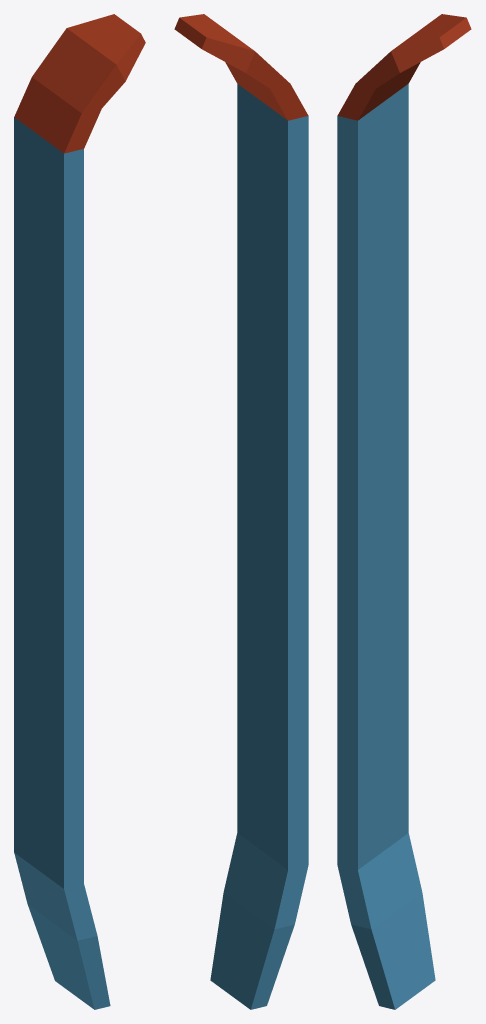
The model's file is skiWeapon.glb.
3 renders of one model, left to right at view 1: azimuth 30°, elevation 25°; view 2: azimuth 210°, elevation 25°; view 3: azimuth 330°, elevation 25°, orthographic.
Parts seen in each view (by area): view 1: Ski; view 2: Ski; view 3: Ski.
Part boxes in pixels (x1,y1,x2,y2): Ski: (14, 14, 145, 1009); Ski: (174, 14, 308, 1009); Ski: (337, 14, 471, 1009).
Bounding box in the file's own units: 0.1019 × 1 × 0.0944.
1 material, 1 textured.
